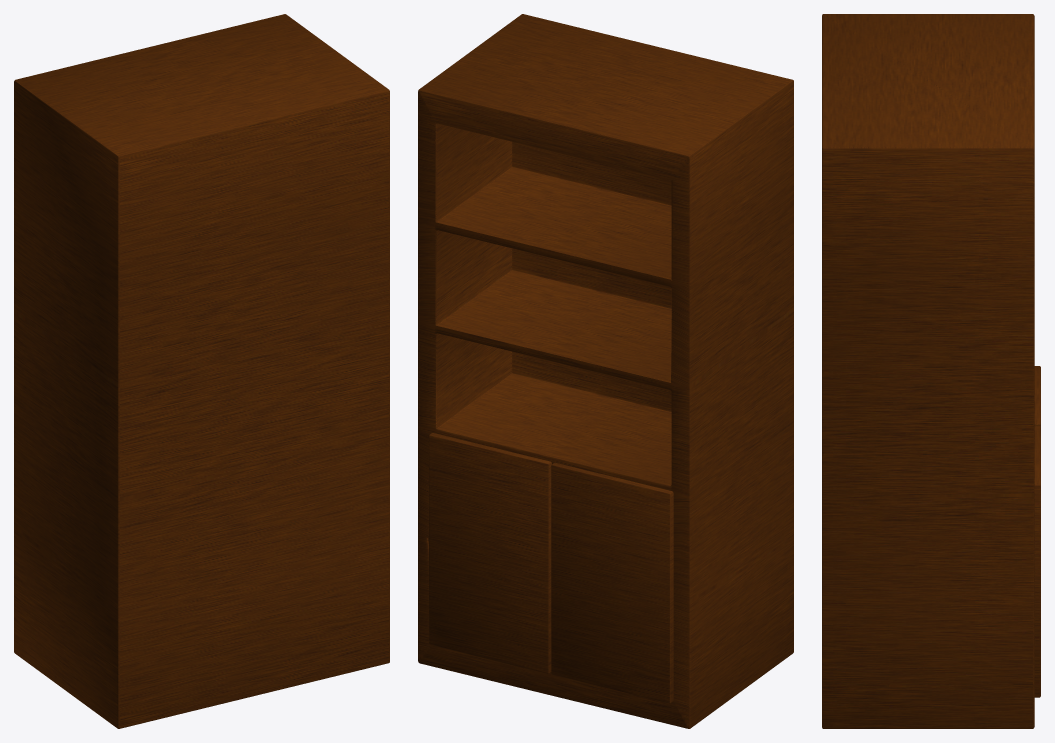
The model's file is kitchen-cabinetWood.001.obj.
3 renders of one model, left to right at view 1: azimuth 30°, elevation 25°; view 2: azimuth 150°, elevation 25°; view 3: azimuth 270°, elevation 25°, orthographic.
Parts seen in each view (by area): view 1: bookcase_Cube.019; view 2: bookcase_Cube.019; view 3: bookcase_Cube.019.
Boxes of the visible parts, x1=… form: bookcase_Cube.019: x1=14, y1=14, x2=389, y2=728; bookcase_Cube.019: x1=418, y1=14, x2=793, y2=728; bookcase_Cube.019: x1=822, y1=14, x2=1040, y2=728.
Bounding box in the file's own units: 2.29 × 4.6 × 1.57.
Materials: 1 (1 with a texture image).
